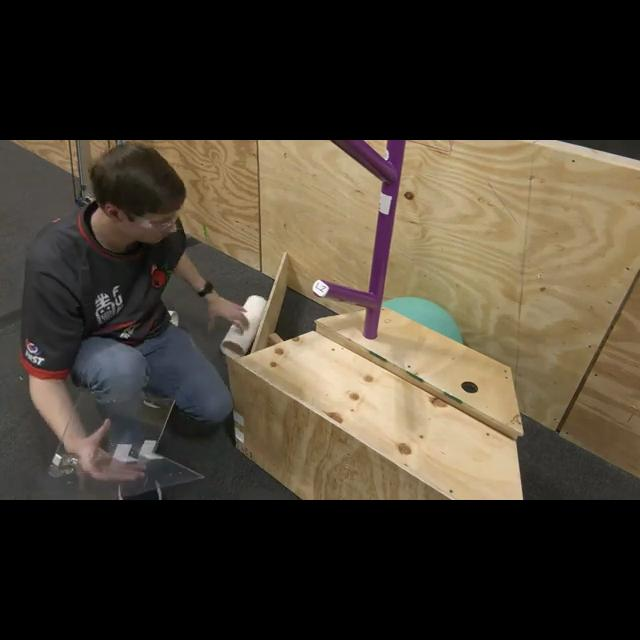CORAL: (219, 293, 267, 359)
